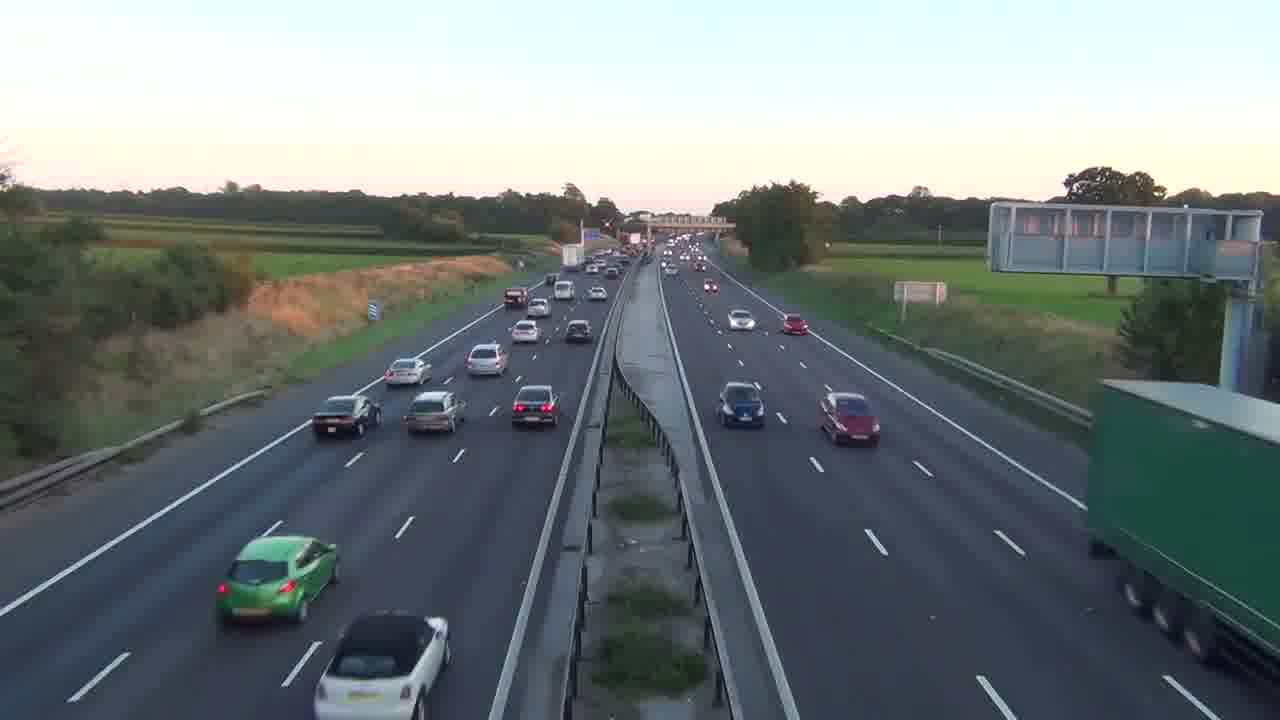car: (313, 610, 452, 719), (213, 521, 340, 628), (817, 389, 882, 448), (311, 394, 381, 439), (402, 389, 467, 435), (717, 380, 766, 429), (511, 384, 561, 429), (383, 354, 433, 387), (465, 342, 508, 378), (510, 318, 540, 345), (564, 320, 593, 344), (782, 314, 809, 336), (527, 296, 552, 319), (552, 280, 577, 300), (585, 284, 607, 301)
